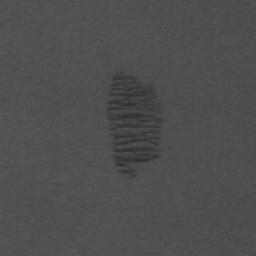Secondary rust skin: (106, 74, 165, 175)
